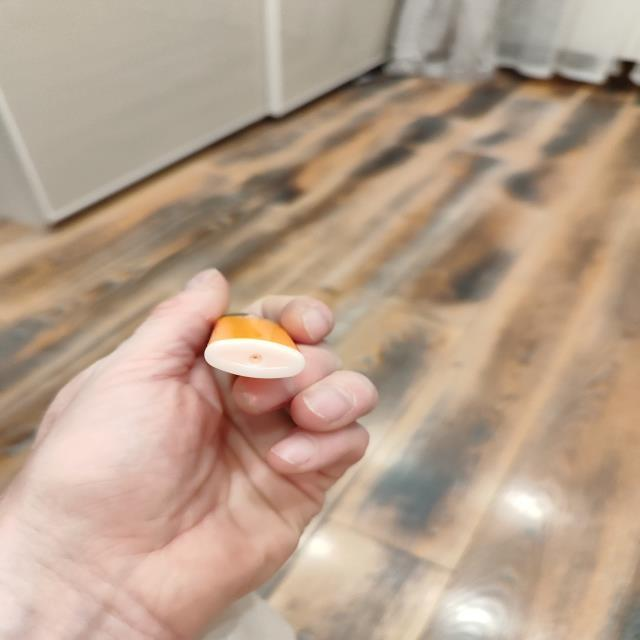lighter: (204, 315, 304, 379)
